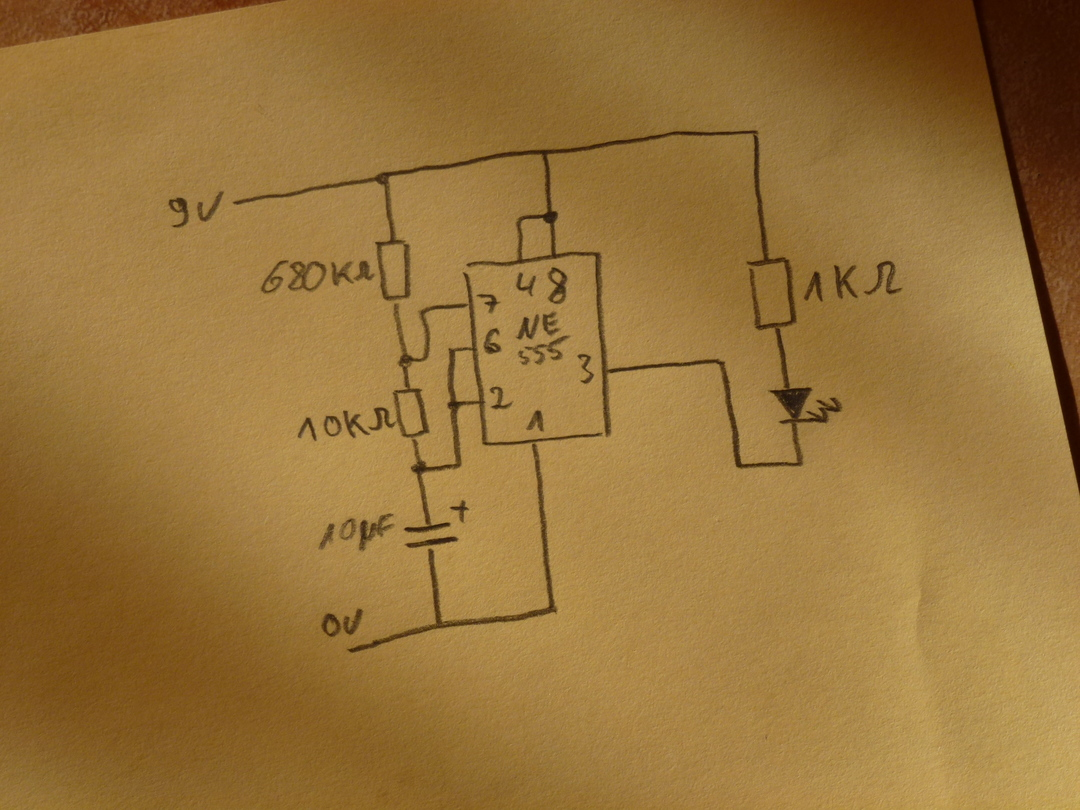capacitor.polarized: (401, 498, 472, 554)
diode.light_emitting: (768, 386, 844, 426)
integrated_cricuit.ne555: (463, 251, 612, 447)
junction: (409, 458, 429, 477), (541, 208, 561, 227), (374, 170, 394, 188), (431, 618, 449, 634), (543, 602, 562, 617), (397, 353, 414, 369), (747, 126, 764, 141), (730, 459, 748, 473), (444, 398, 462, 412), (712, 356, 728, 371), (792, 457, 808, 471), (514, 213, 528, 228), (537, 146, 552, 159), (452, 458, 465, 472), (416, 305, 430, 318), (419, 352, 432, 365), (445, 345, 459, 357)
resistor: (745, 255, 798, 331), (373, 237, 413, 306), (391, 384, 432, 442)
terminal: (343, 642, 358, 658), (229, 197, 241, 210)
text: (802, 259, 904, 303), (260, 258, 375, 295), (296, 406, 396, 443), (317, 512, 397, 553), (515, 311, 571, 366), (167, 189, 225, 229), (319, 607, 364, 638), (545, 266, 569, 305), (576, 352, 595, 385), (489, 385, 514, 410), (514, 271, 537, 297), (483, 327, 503, 356), (476, 292, 501, 314), (525, 408, 546, 433)
